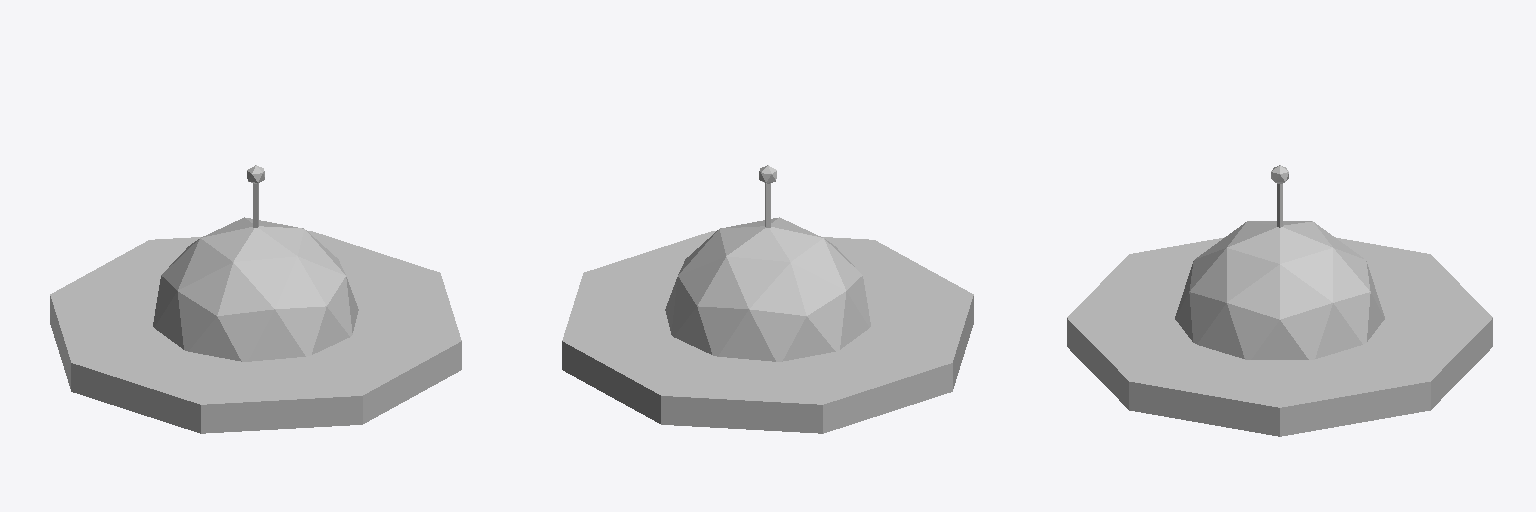
The model's file is ovni_avancado.obj.
3 views of the same model, side by side, from view 1: azimuth 30°, elevation 25°; view 2: azimuth 150°, elevation 25°; view 3: azimuth 270°, elevation 25° (orthographic).
Visible parts, largest first — view 1: Cylinder, Icosphere; view 2: Cylinder, Icosphere; view 3: Cylinder, Icosphere.
Boxes of the visible parts, box(x1,y1,x2,y2) form: Cylinder: box(50, 165, 461, 433); Icosphere: box(153, 217, 358, 361); Cylinder: box(562, 165, 973, 433); Icosphere: box(665, 217, 870, 361); Cylinder: box(1067, 165, 1492, 436); Icosphere: box(1175, 221, 1384, 359).
Bounding box in the file's own units: 4 × 1.88 × 4.